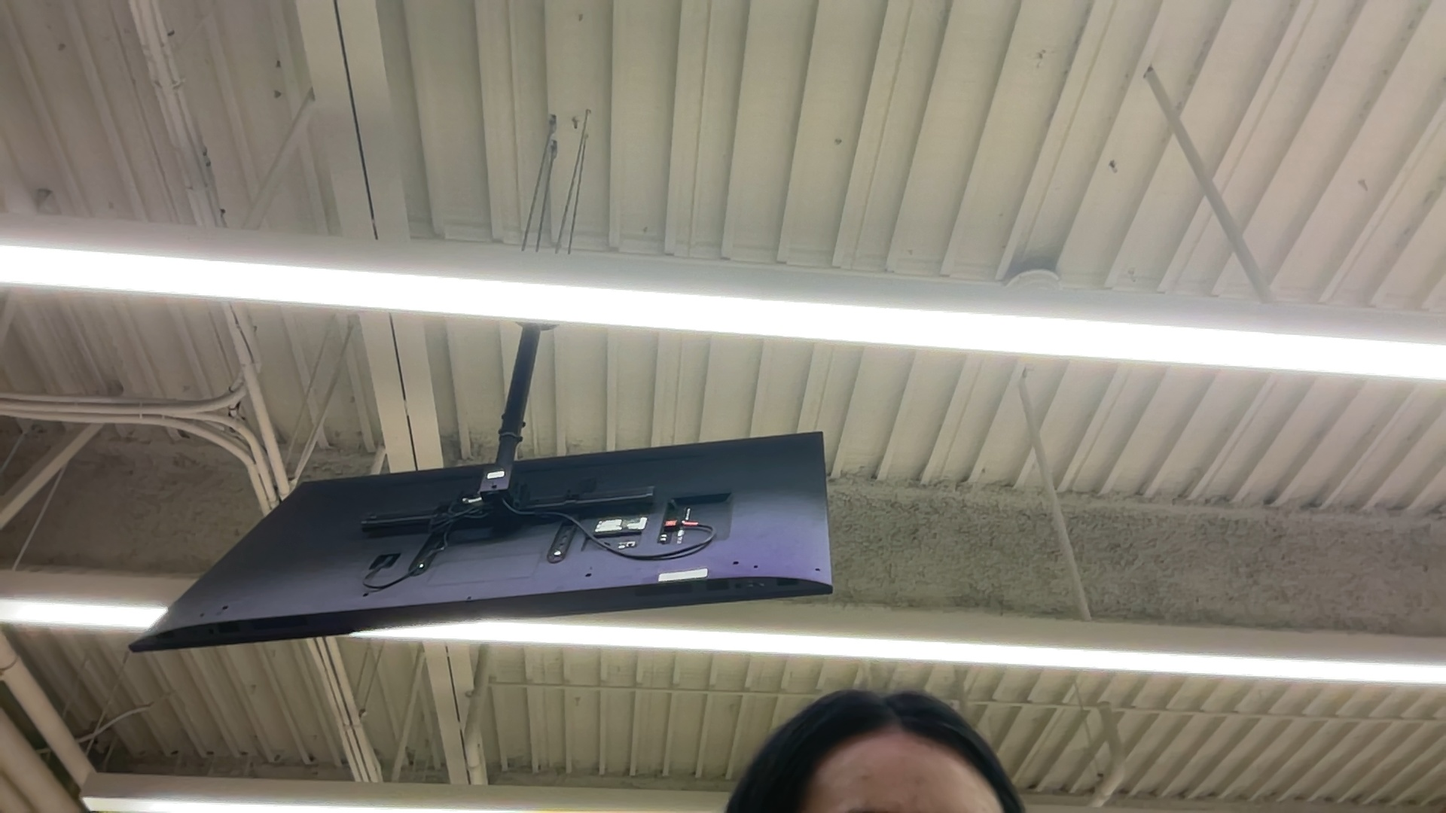Plastic: (4, 402, 276, 608)
